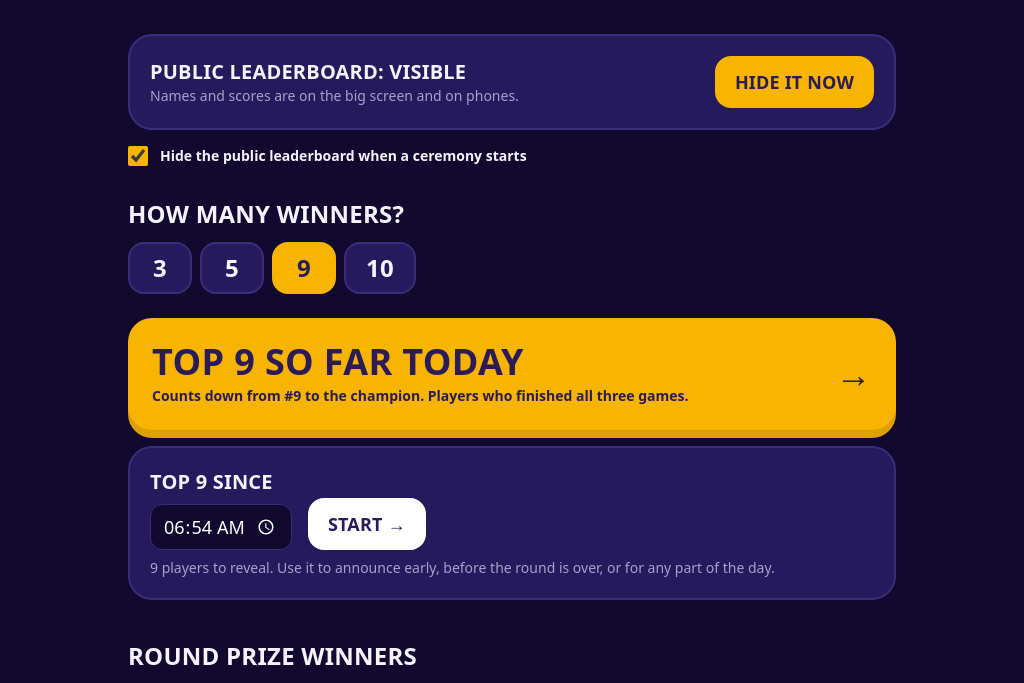
goes back to the choices with Escape
This screenshot has width=1024, height=683.
(page scrolled)
Click the button "Top 9 so far today": (512, 374) [128,318,896,430]
(page scrolled)
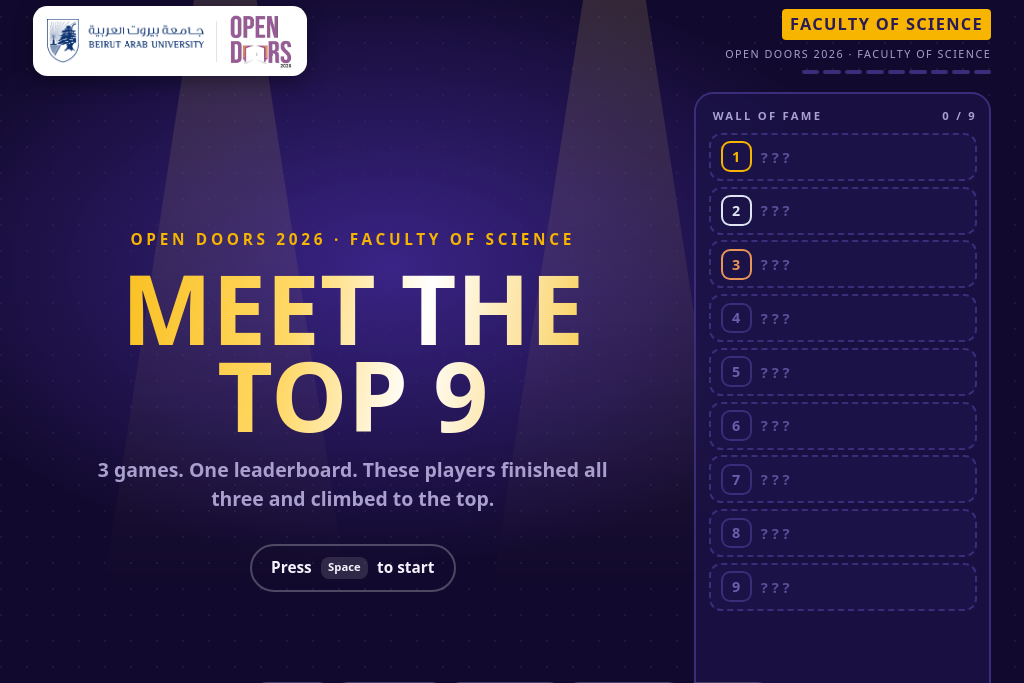
Expected: the heading "Meet the Top 9" is shown, [38,265,668,438]
Press Escape
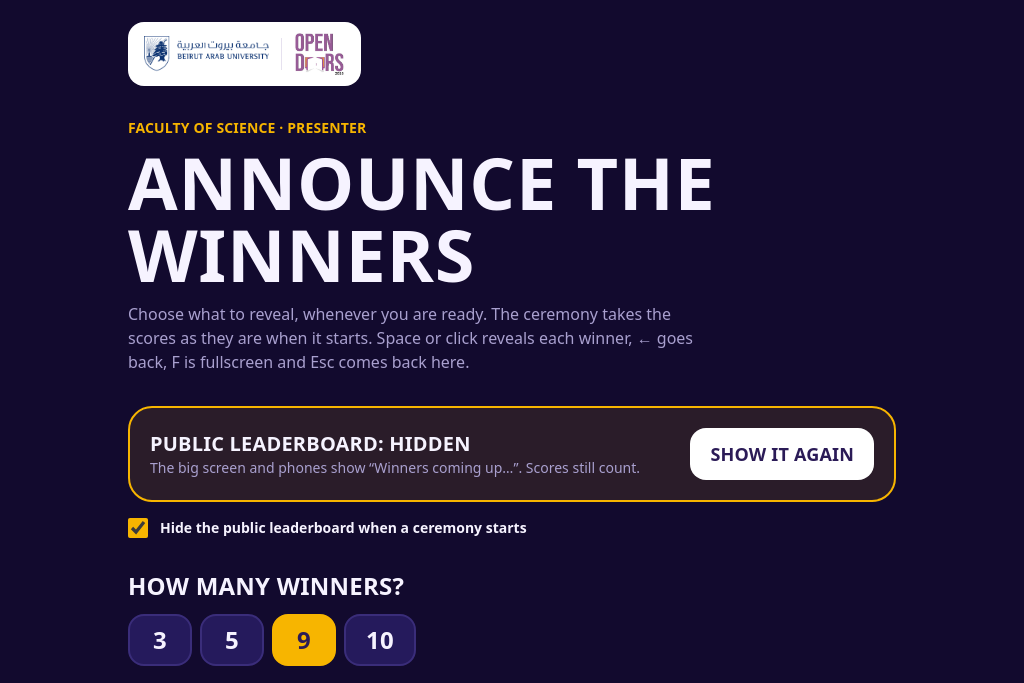
Expected: the heading "Announce the winners" is shown, [128,133,716,303]
